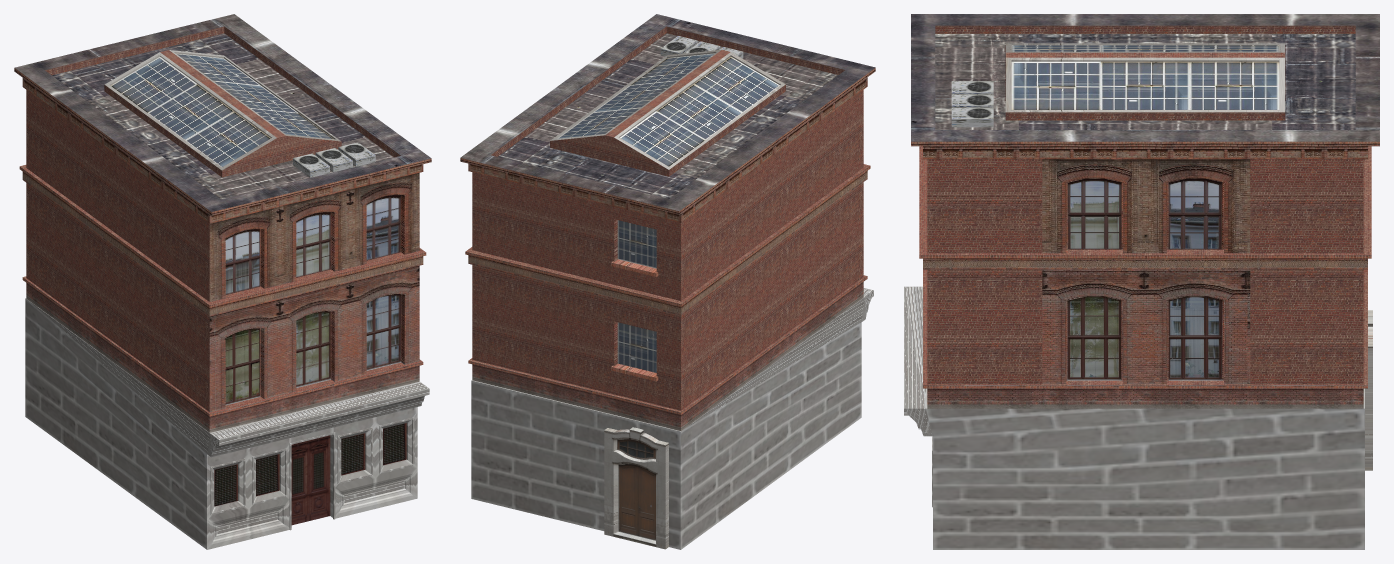
Rendered from building12.obj.
The picture shows the model from 3 angles, left to right: view 1: azimuth 30°, elevation 25°; view 2: azimuth 150°, elevation 25°; view 3: azimuth 270°, elevation 25°; orthographic projection. The views are drawn at different scales.
Parts seen in each view (by area): view 1: K_BuildingsA_001, K_BuildingsA_002, 001, K_BuildingsA_006, K_BuildingsA_003, K_BuildingsA_004, K_BuildingsA_005, K_BuildingsA_007; view 2: K_BuildingsA_002, 001, K_BuildingsA_006, K_BuildingsA_001, K_BuildingsA_003, K_BuildingsA_005, K_BuildingsA_007; view 3: K_BuildingsA_001, 001, K_BuildingsA_002, K_BuildingsA_006, K_BuildingsA_003, K_BuildingsA_005, K_BuildingsA_007.
Part boxes in pixels (left/top/right/bottom): K_BuildingsA_001: left=14, top=68, right=431, bottom=432; K_BuildingsA_002: left=20, top=26, right=425, bottom=413; 001: left=25, top=298, right=429, bottom=549; K_BuildingsA_006: left=15, top=14, right=431, bottom=211; K_BuildingsA_003: left=110, top=53, right=333, bottom=166; K_BuildingsA_004: left=214, top=423, right=406, bottom=525; K_BuildingsA_005: left=104, top=50, right=340, bottom=170; K_BuildingsA_007: left=293, top=142, right=375, bottom=177; K_BuildingsA_002: left=466, top=26, right=869, bottom=412; 001: left=471, top=288, right=873, bottom=549; K_BuildingsA_006: left=460, top=14, right=875, bottom=211; K_BuildingsA_001: left=460, top=68, right=875, bottom=430; K_BuildingsA_003: left=557, top=53, right=779, bottom=372; K_BuildingsA_005: left=550, top=50, right=785, bottom=549; K_BuildingsA_007: left=660, top=36, right=743, bottom=58; K_BuildingsA_001: left=911, top=141, right=1379, bottom=408; 001: left=904, top=286, right=1364, bottom=549; K_BuildingsA_002: left=919, top=25, right=1371, bottom=385; K_BuildingsA_006: left=911, top=14, right=1379, bottom=141; K_BuildingsA_003: left=1011, top=45, right=1279, bottom=109; K_BuildingsA_005: left=1005, top=43, right=1372, bottom=470; K_BuildingsA_007: left=951, top=81, right=993, bottom=127.
Size of the model in its own units: 6.17 by 9.79 by 9.73.
Materials: 8 (8 with a texture image).
